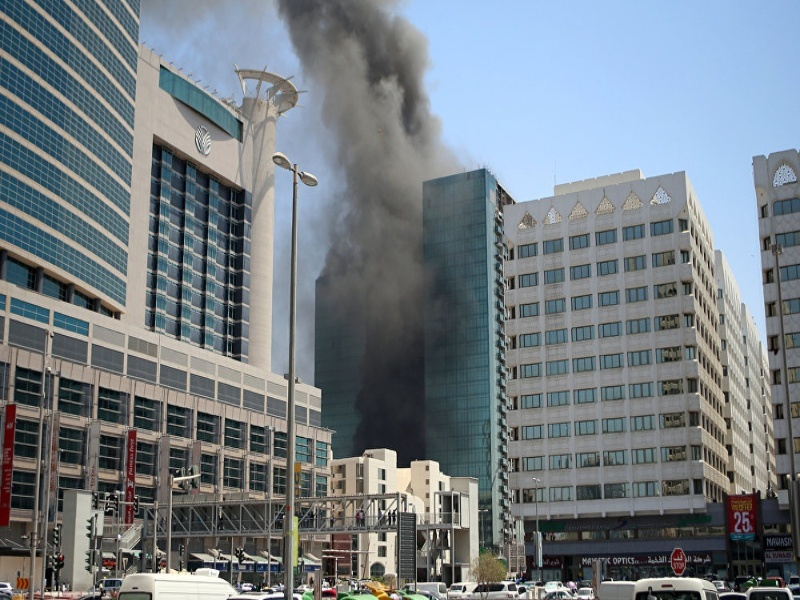smoke: (287, 1, 440, 320)
